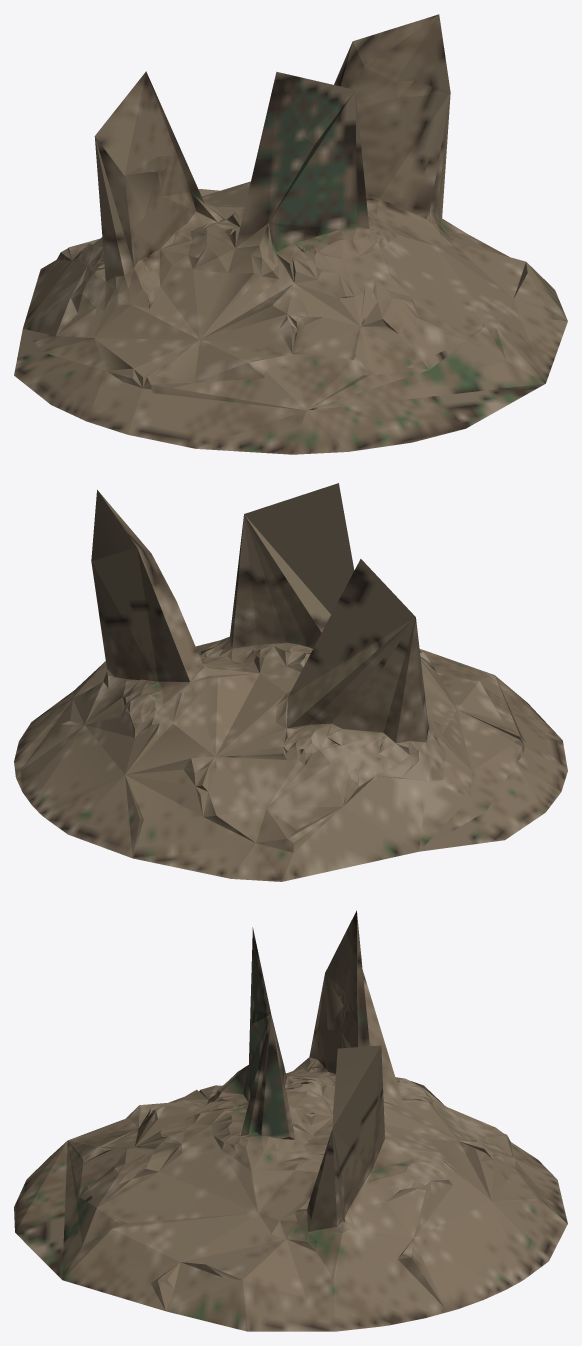
The model's file is SM_MeshyTombstones.fbx.
3 renders of one model, top to bottom at view 1: azimuth 30°, elevation 25°; view 2: azimuth 150°, elevation 25°; view 3: azimuth 270°, elevation 25°, orthographic. The views are drawn at different scales.
Visible parts, largest first — view 1: SM_MeshyTombstones; view 2: SM_MeshyTombstones; view 3: SM_MeshyTombstones.
Part boxes in pixels (bbox=[...]): SM_MeshyTombstones: bbox=[14, 14, 567, 454]; SM_MeshyTombstones: bbox=[14, 483, 567, 881]; SM_MeshyTombstones: bbox=[14, 910, 567, 1331].
Size of the model in its own units: 1.19 by 0.6546 by 1.19.
Materials: 1 (1 with a texture image).
